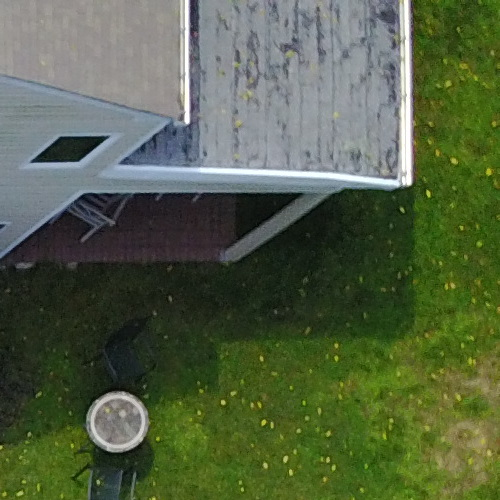table: (77, 387, 154, 458)
